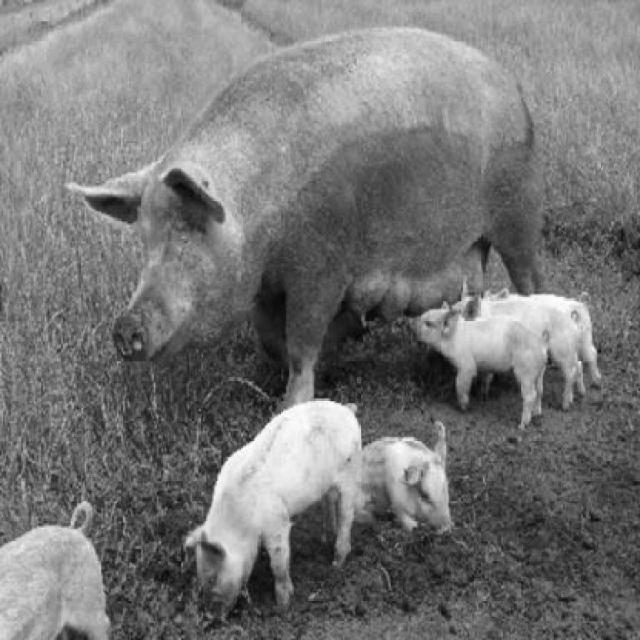Boar: (68, 26, 603, 620), (0, 497, 109, 638)
